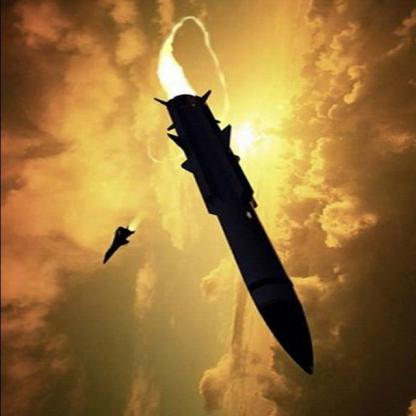MIL_TBM: (155, 90, 316, 386)
